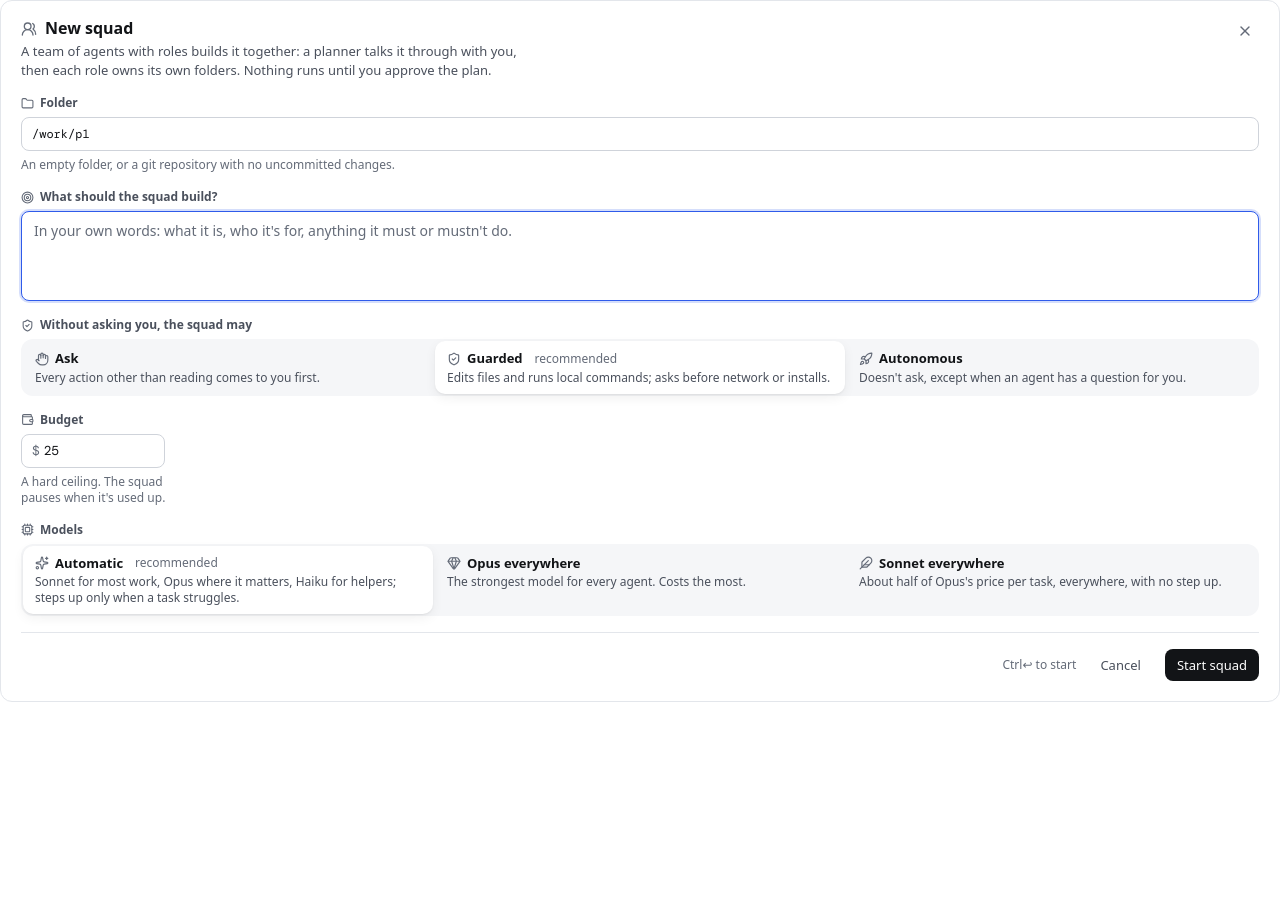
NewSquadPanel › asks for the goal and a budget in range before starting
Click the button "Start squad" at (1212, 665), box [1165,649,1259,681]
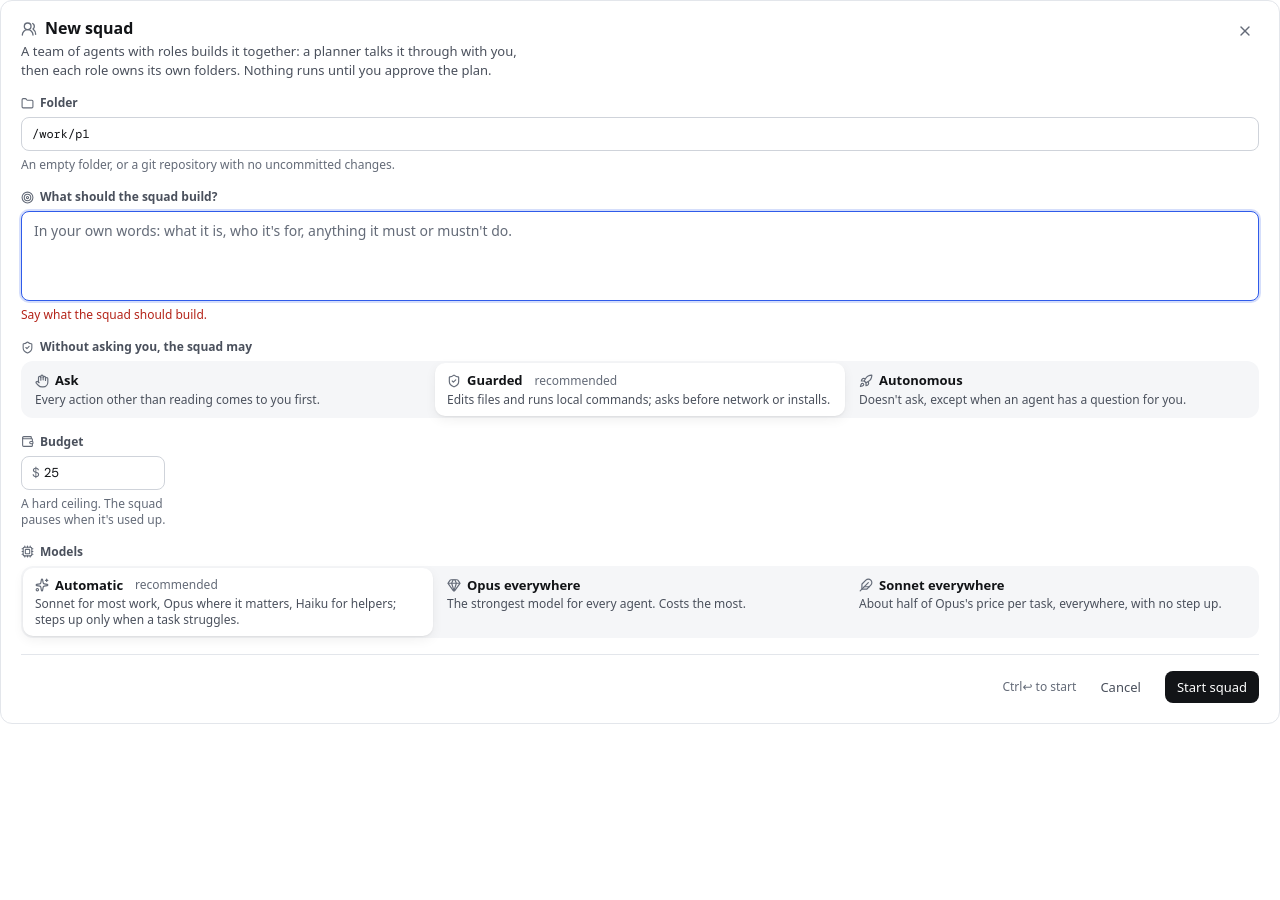
Expected: the text "Say what the squad should build." is shown, [21,306,207,323]
Replace the text in the text box labelled "What should the squad build?" with "A todo app" at (640, 256), box [34,220,1246,292]
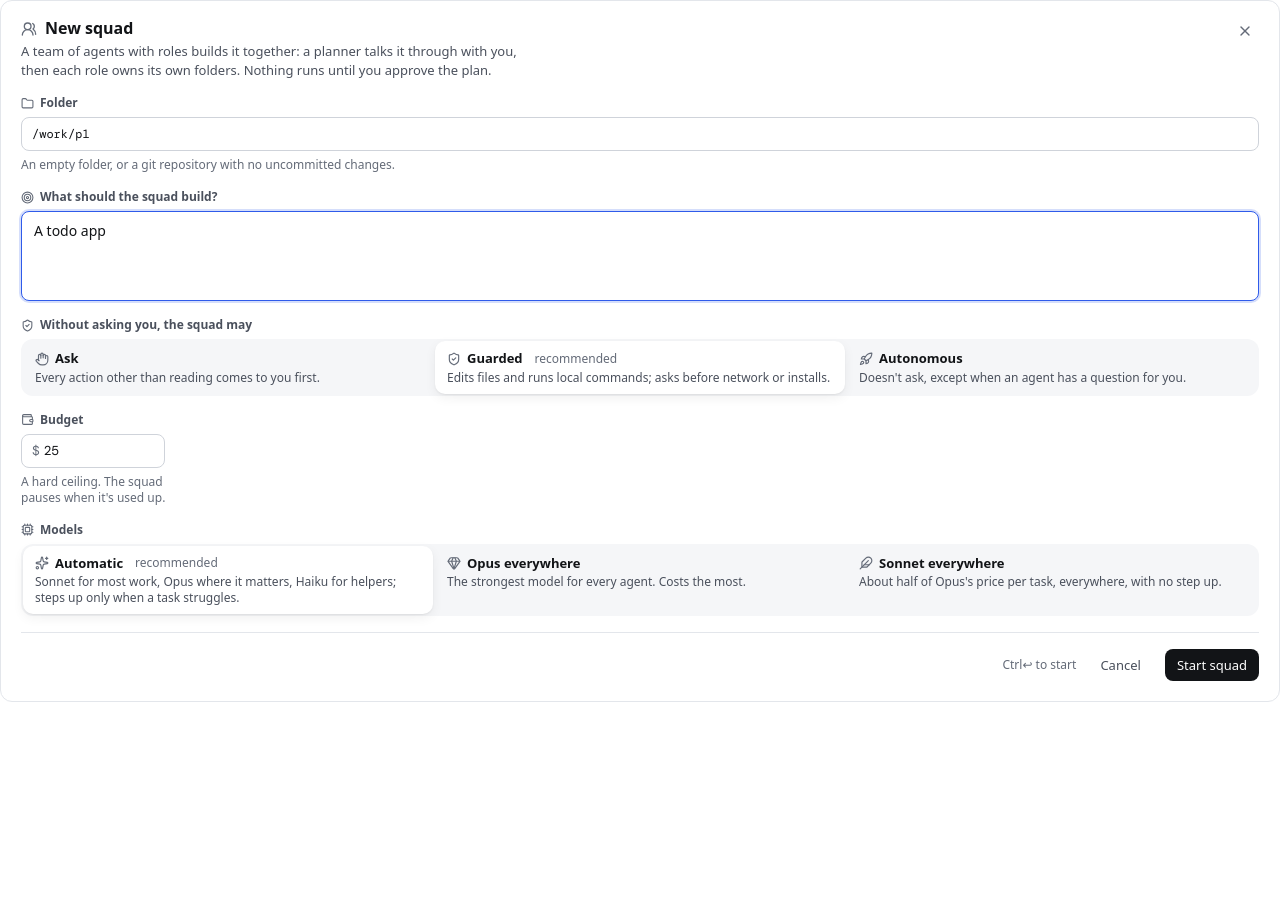
Replace the text in the field labelled "Budget" with "5000" at (102, 451), box [40,435,164,467]
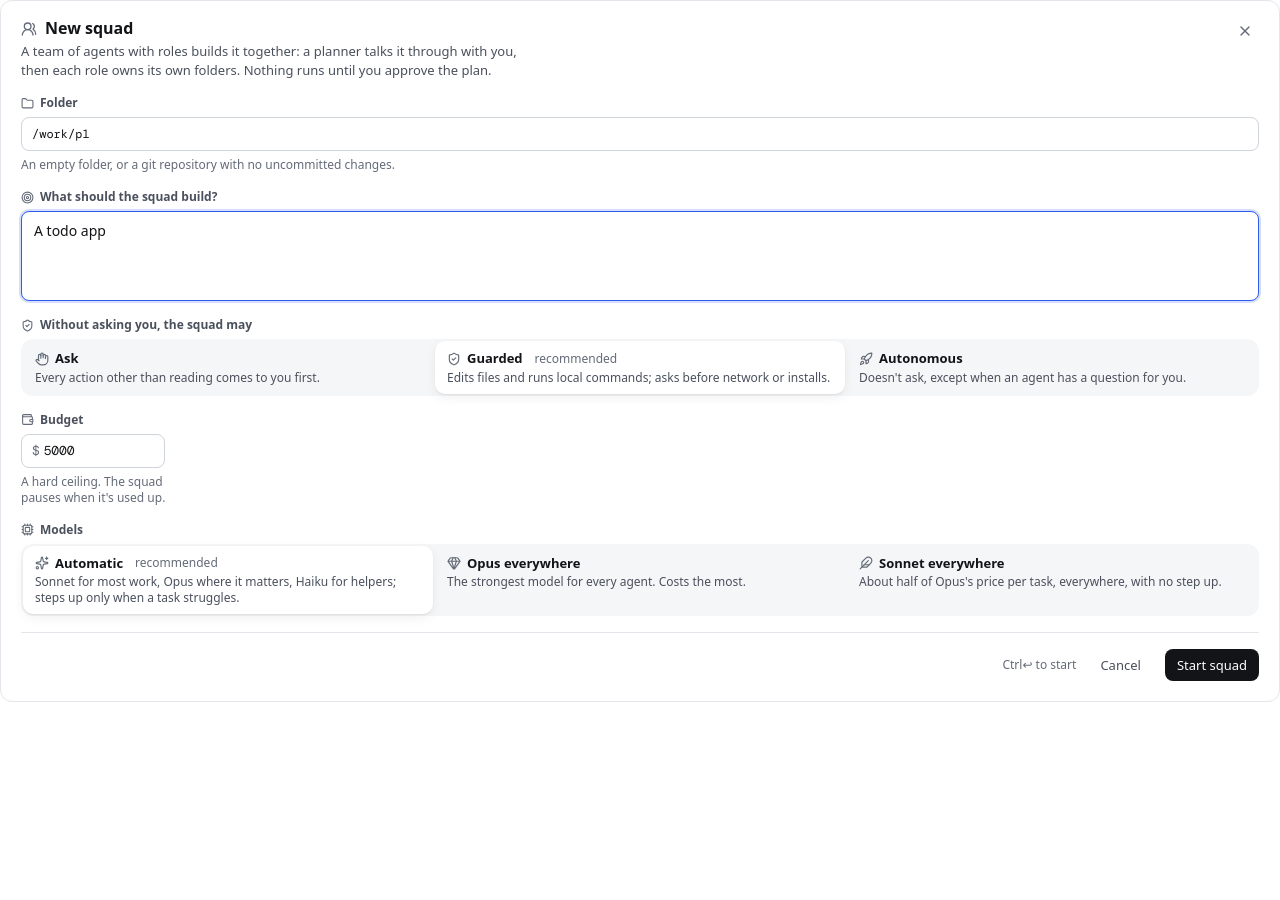
Click the button "Start squad" at (1212, 665), box [1165,649,1259,681]
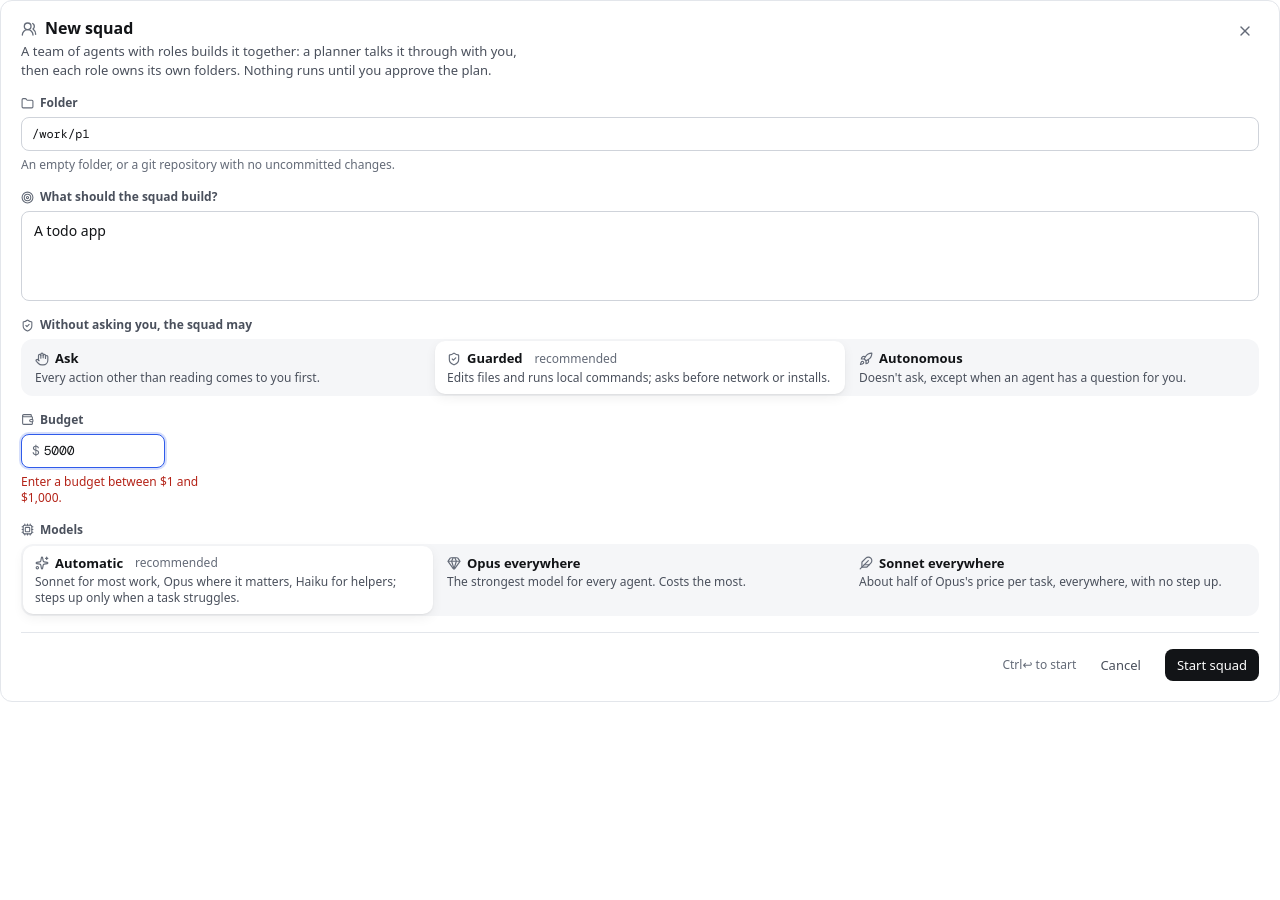
Expected: the text "Enter a budget between $1 and $1,000." is shown, [21,474,200,506]
